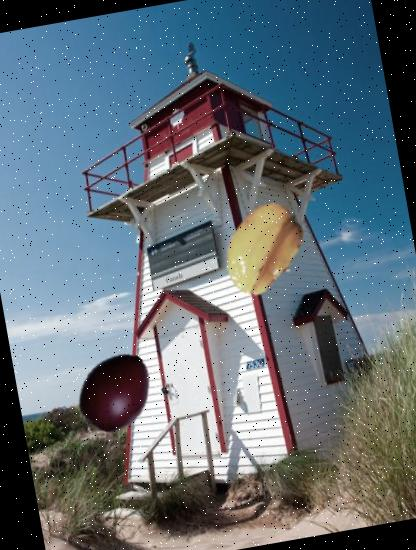Carambula: (208, 193, 320, 305)
Tamarillo: (62, 342, 165, 445)
